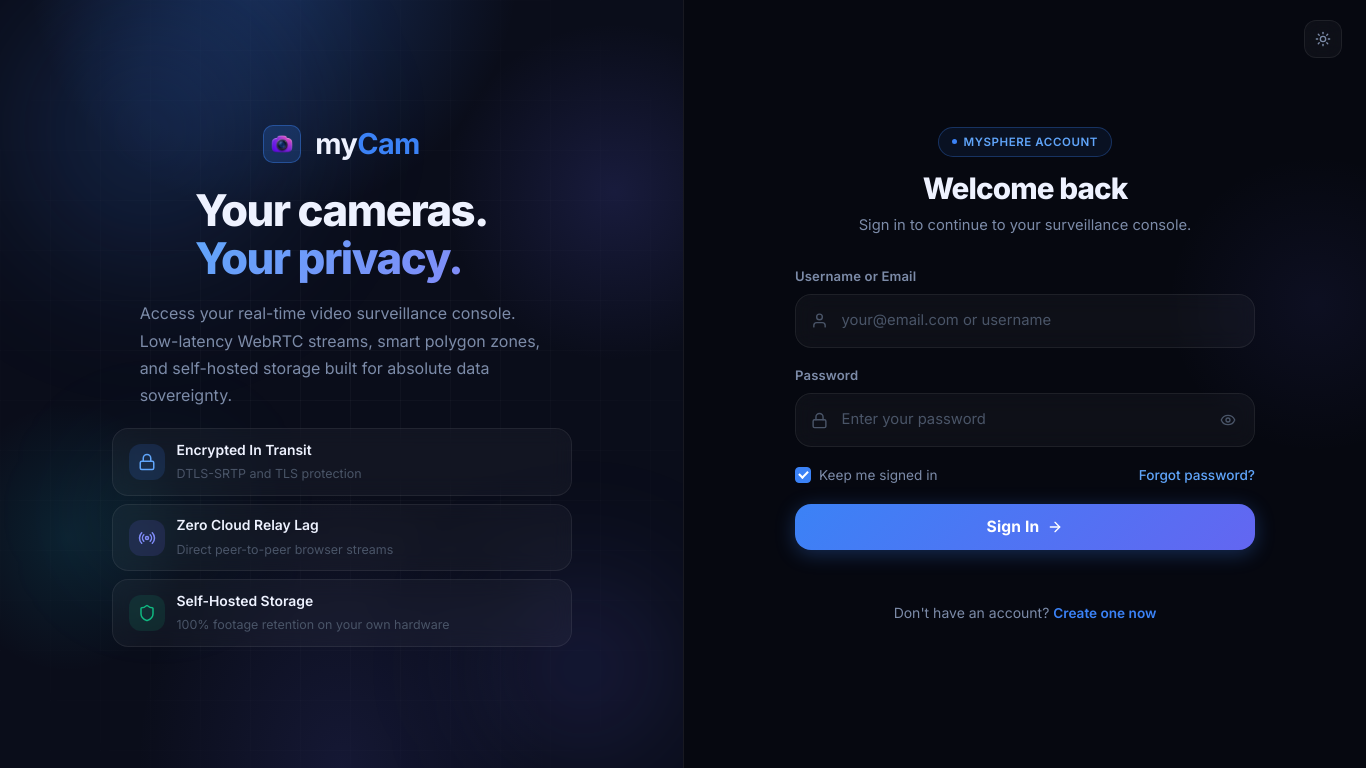
Scenario: Login › survives an HTML 502 gateway page without leaking parser errors or logging in
Step 1. Type "rudy" into the field with id "login-username" → (1025, 321), box [795,294,1255,348]
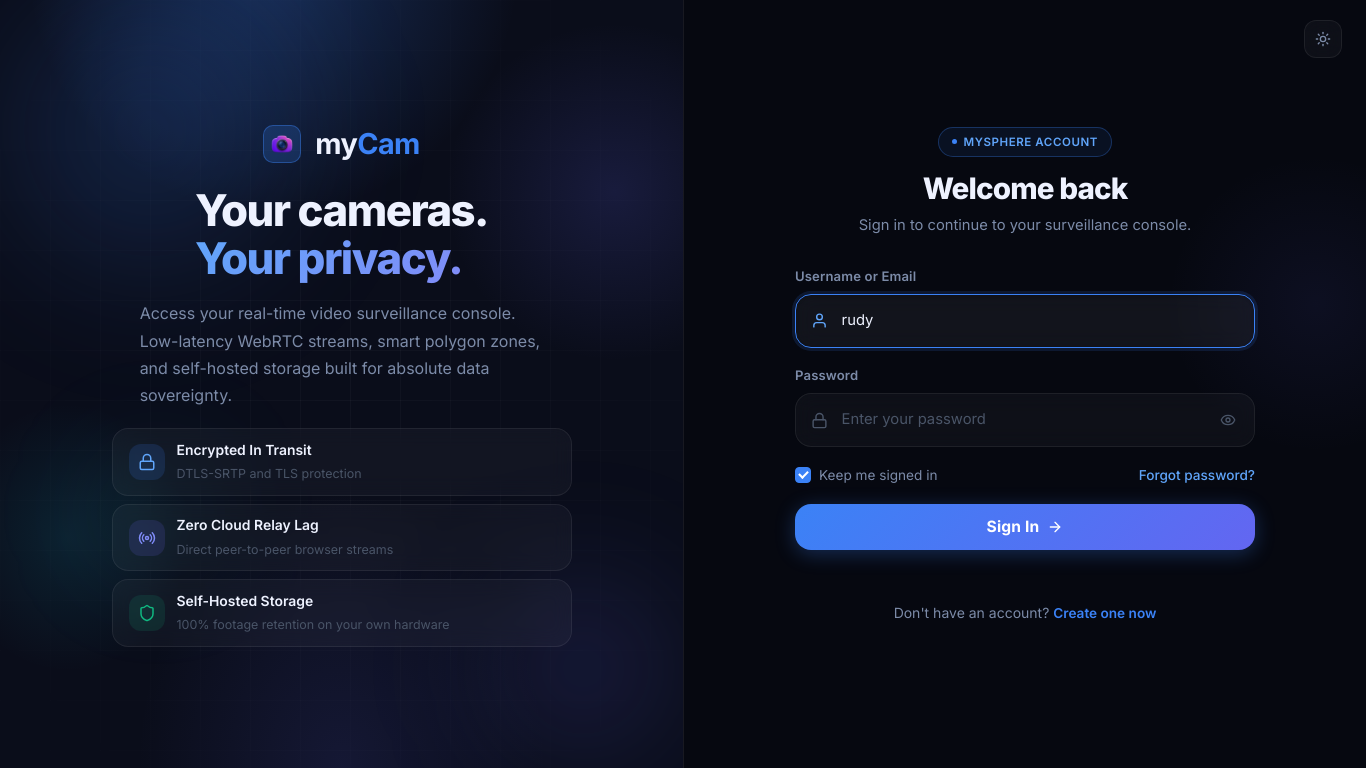
Step 2. Type "Secret#123" into the password field with id "login-password" → (1025, 420), box [795,393,1255,447]
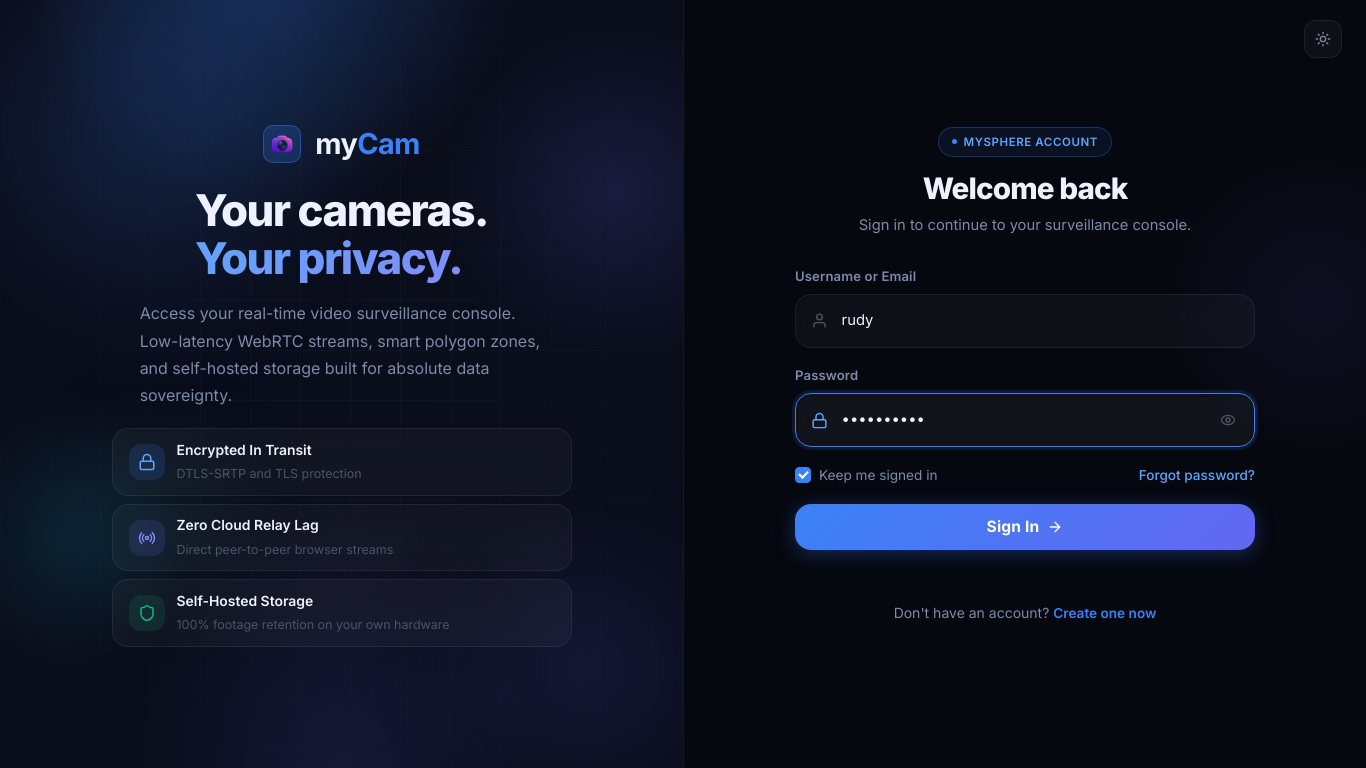
Step 3. Click the button with aria-label "sign in to mycam" → (1025, 527), box [795,504,1255,550]
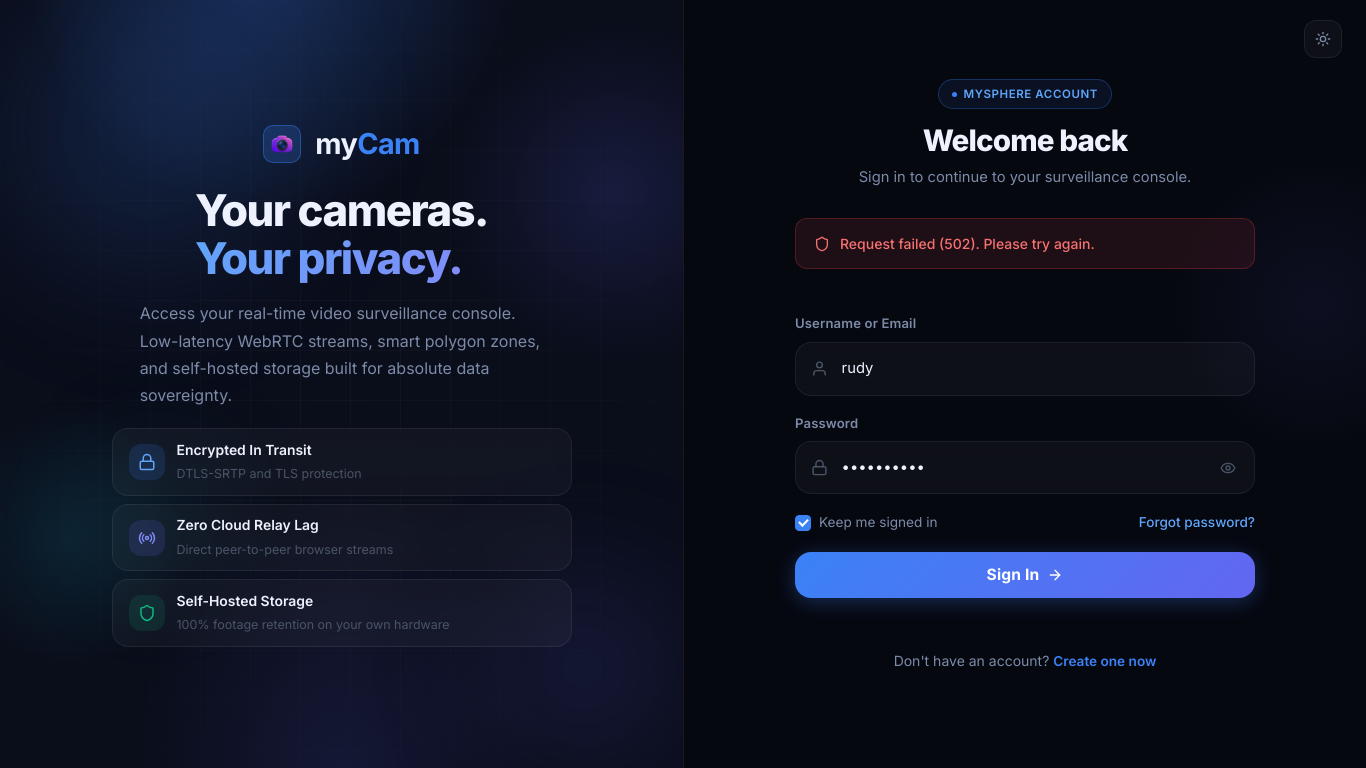
expect the element with class "auth-message--error" is shown: met, box [795,218,1255,270]
